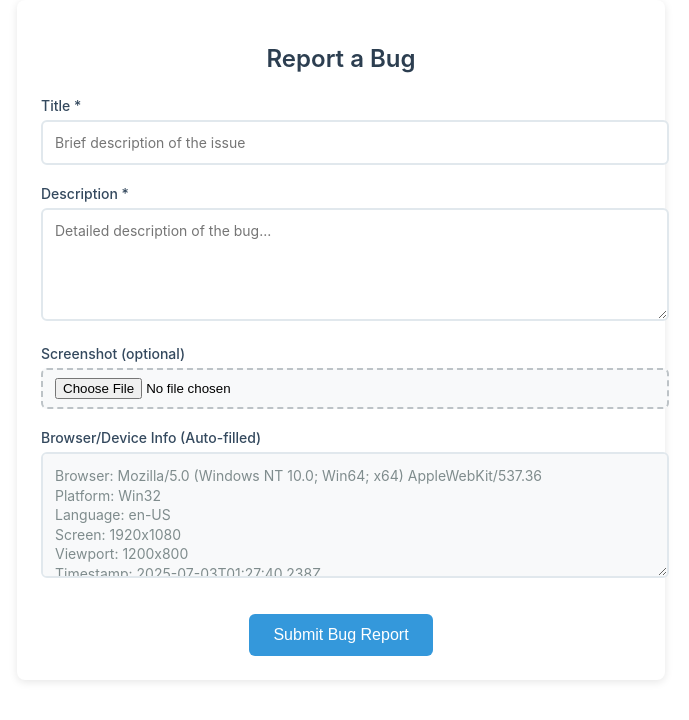
BugReportForm › Error State Handling › shows server error message when API returns server error
Type "Bug Title" into the field labelled "Title *" at {"x": 355, "y": 142}, box [41,120,669,165]
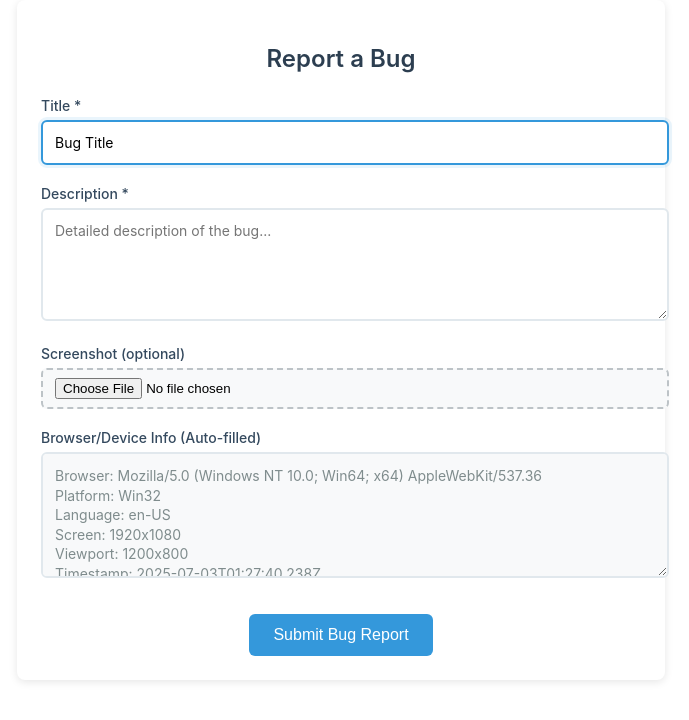
Type "Bug Description" into the text box labelled "Description *" at {"x": 355, "y": 264}, box [41,208,669,321]
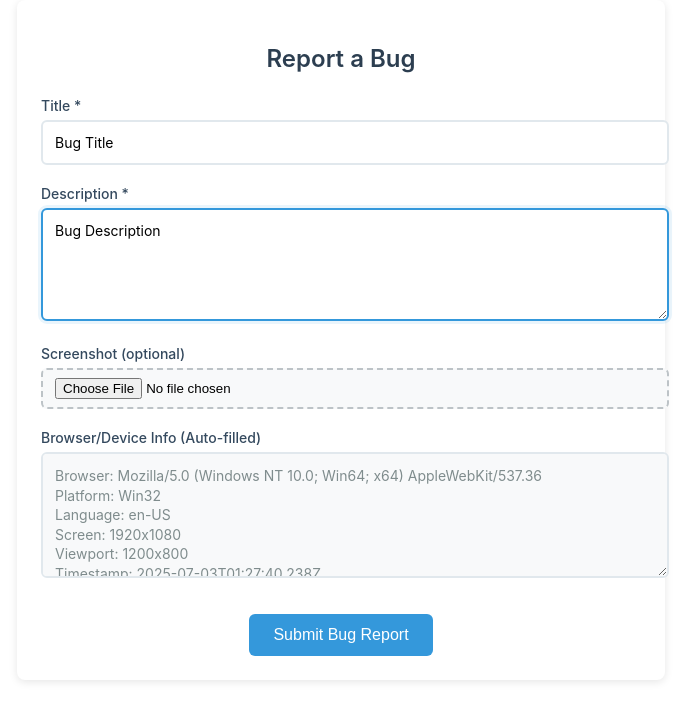
Click the button "Submit Bug Report" at {"x": 341, "y": 635}, box [249,614,433,656]
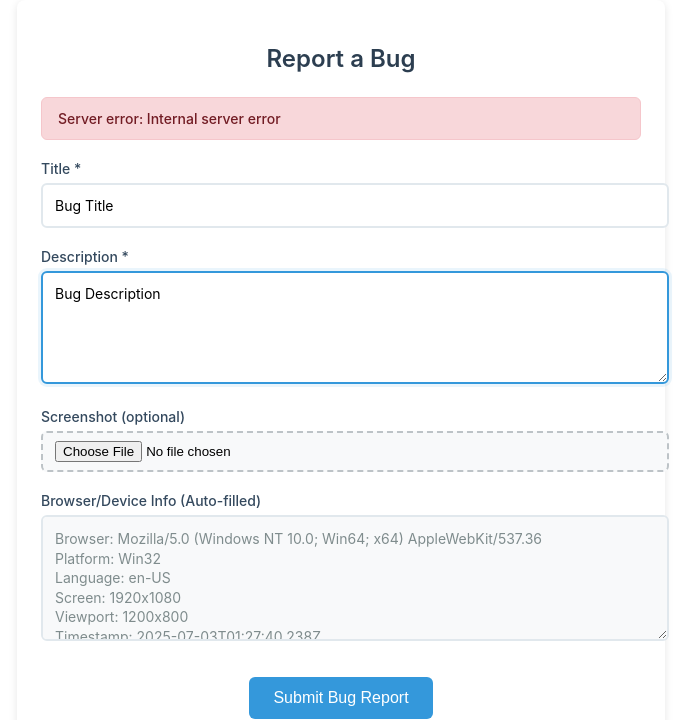
Now the text "Server error: Internal server error" is shown, box [41,97,641,140]
